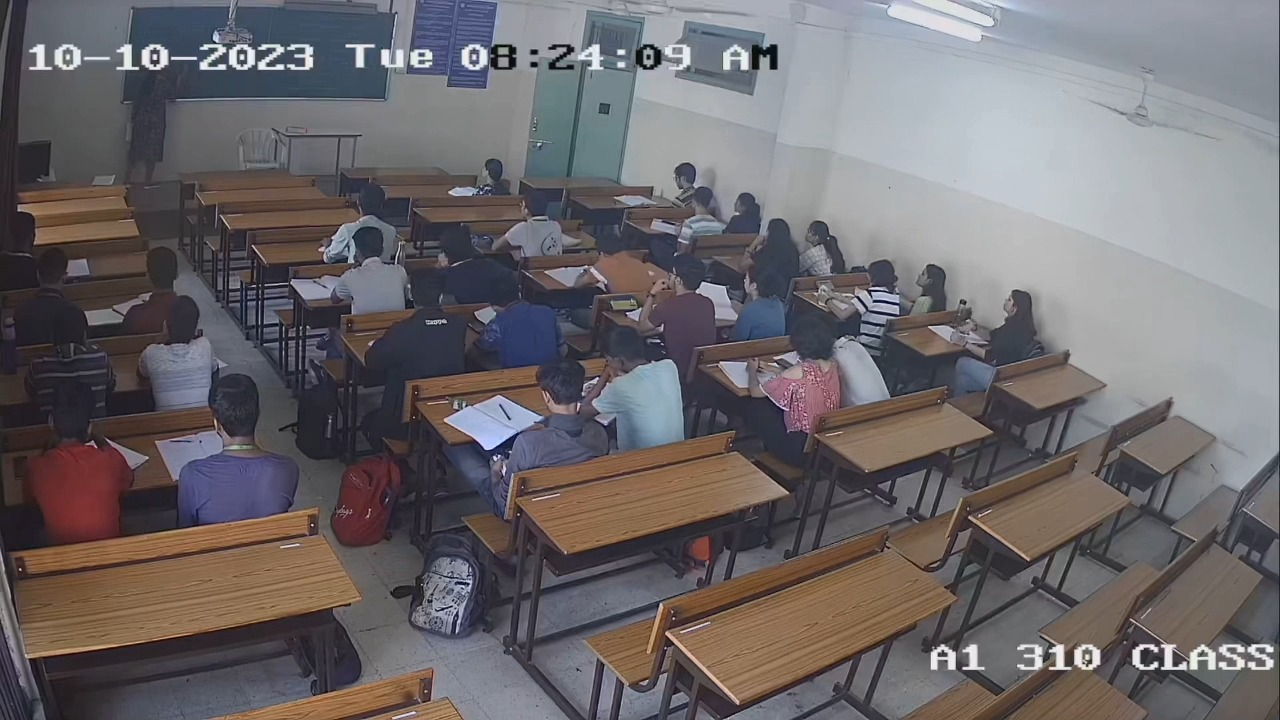cell-phones: (11, 452, 34, 484), (604, 295, 642, 312), (465, 316, 489, 336), (811, 278, 839, 292), (773, 356, 798, 371)
person: (21, 381, 131, 541), (751, 315, 841, 420), (476, 276, 569, 364), (637, 251, 718, 344), (826, 259, 903, 325)
